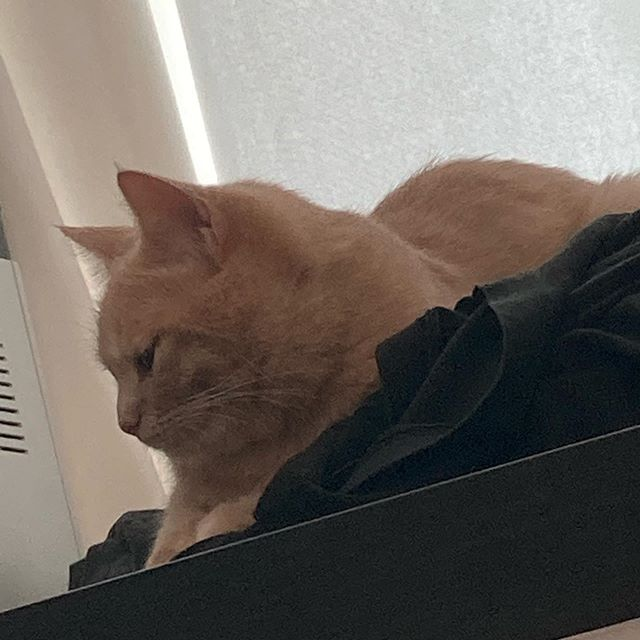cat: (48, 166, 357, 453)
